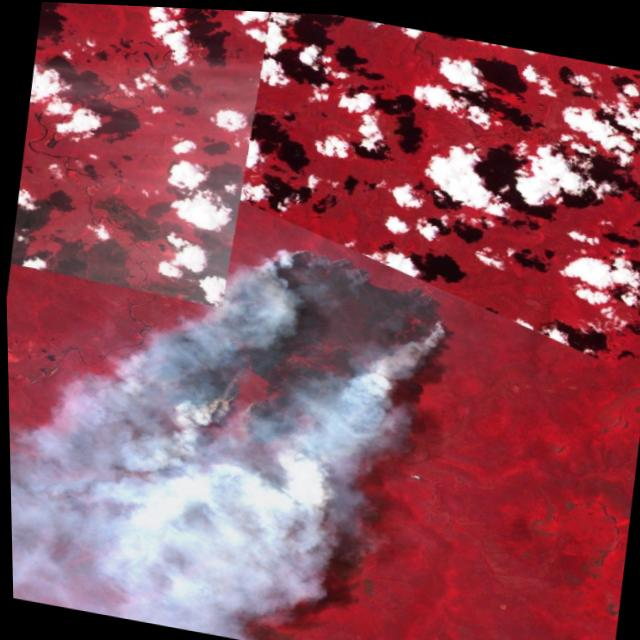fire: (139, 214, 475, 491)
